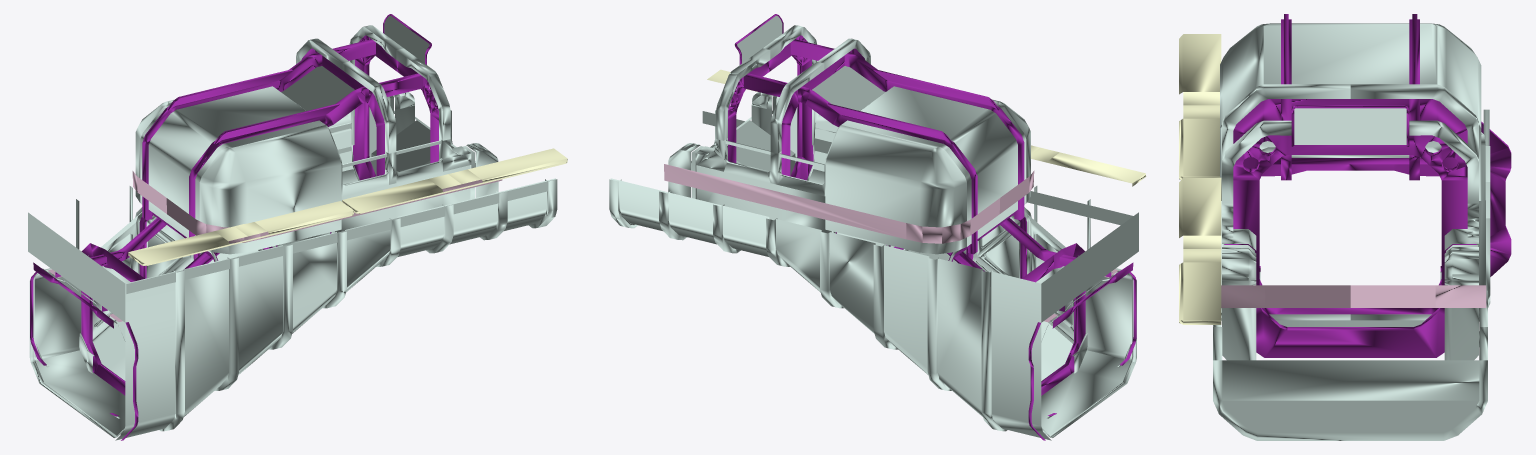
The model's file is ext_landingpad_floor_straight_stair_right_16x08x10_b.glb.
The picture shows the model from 3 angles, left to right: view 1: azimuth 30°, elevation 25°; view 2: azimuth 150°, elevation 25°; view 3: azimuth 270°, elevation 25°; orthographic projection. The views are drawn at different scales.
Size of the model in its own units: 16.12 by 10.95 by 8.
